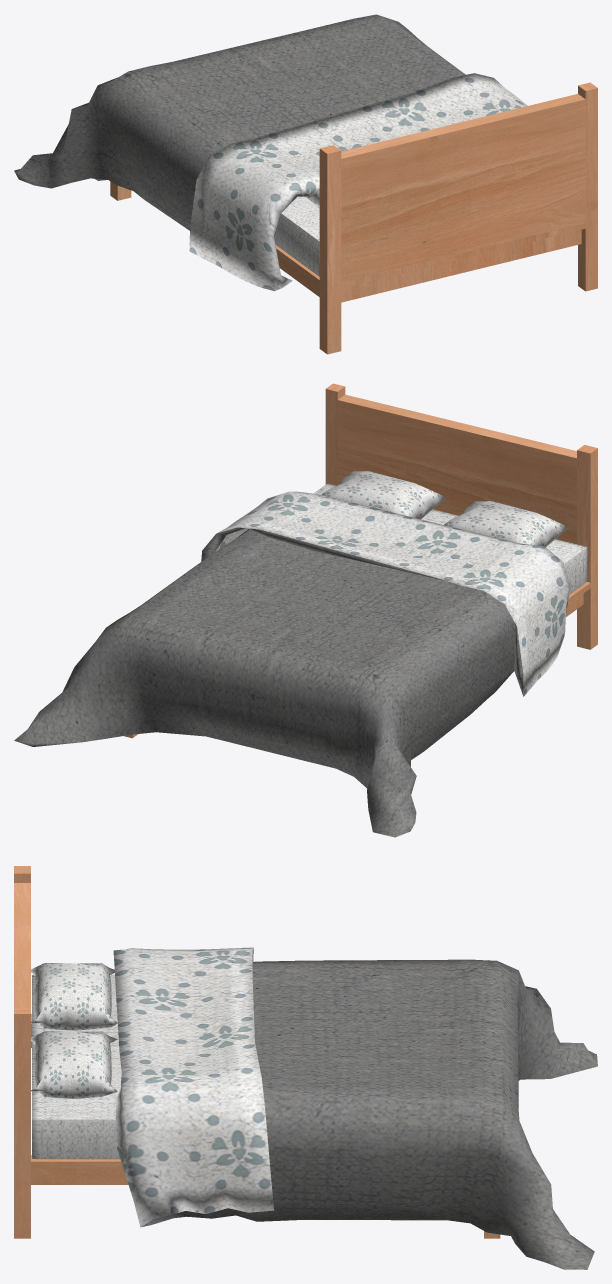
The model's file is FUR0210027.fbx.
3 views of the same model, one above another, from view 1: azimuth 30°, elevation 25°; view 2: azimuth 150°, elevation 25°; view 3: azimuth 270°, elevation 25° (orthographic). The views are drawn at different scales.
Parts seen in each view (by area): view 1: smFUR0210027; view 2: smFUR0210027; view 3: smFUR0210027.
Boxes of the visible parts, box(x1,y1,x2,y2) form: smFUR0210027: box(14, 14, 597, 354); smFUR0210027: box(14, 383, 597, 837); smFUR0210027: box(14, 866, 597, 1269).
Bounding box in the file's own units: 307 × 147 × 347.
Materials: 1 (1 with a texture image).
